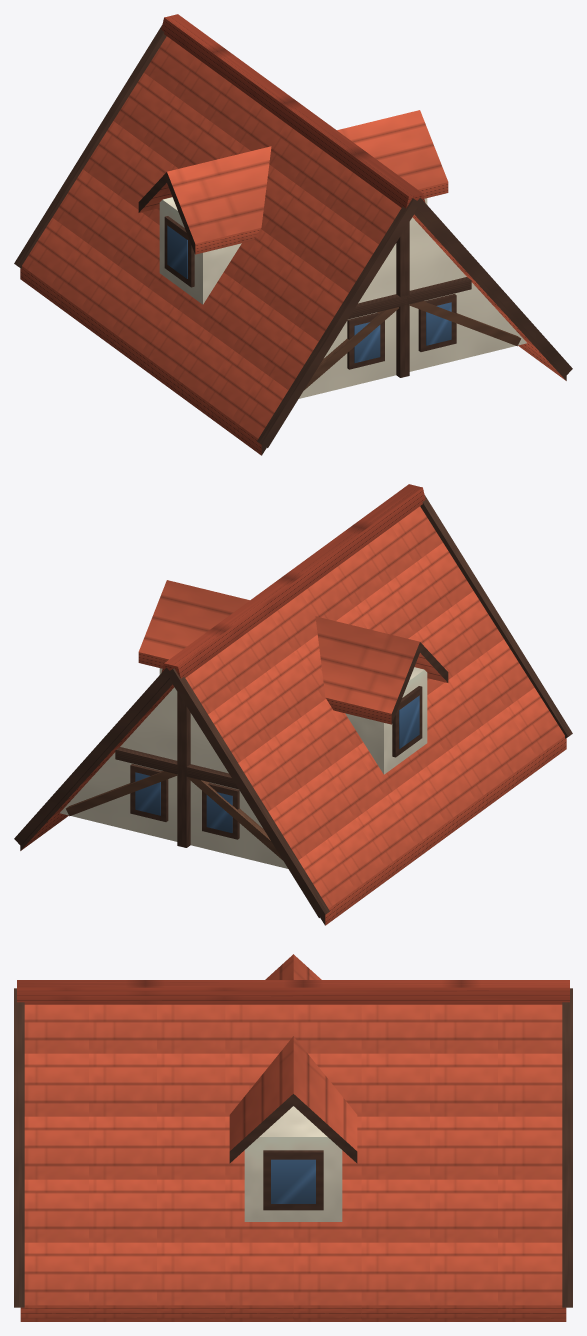
Rendered from bld_roof_a_6x8.glb.
3 views of the same model, one above another, from view 1: azimuth 30°, elevation 25°; view 2: azimuth 150°, elevation 25°; view 3: azimuth 270°, elevation 25° (orthographic). The views are drawn at different scales.
Parts seen in each view (by area): view 1: bld_roof_a_6x8; view 2: bld_roof_a_6x8; view 3: bld_roof_a_6x8.
Part boxes in pixels (x1,y1,x2,y2): bld_roof_a_6x8: (14,14,572,455); bld_roof_a_6x8: (14,484,572,925); bld_roof_a_6x8: (14,954,572,1321).
Size of the model in its own units: 5.4 by 3.72 by 7.43.
Materials: 1 (1 with a texture image).
